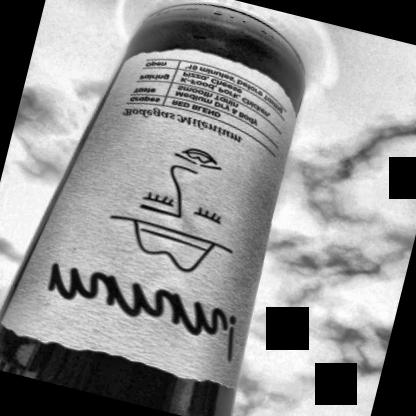umm: (0, 17, 316, 393)
